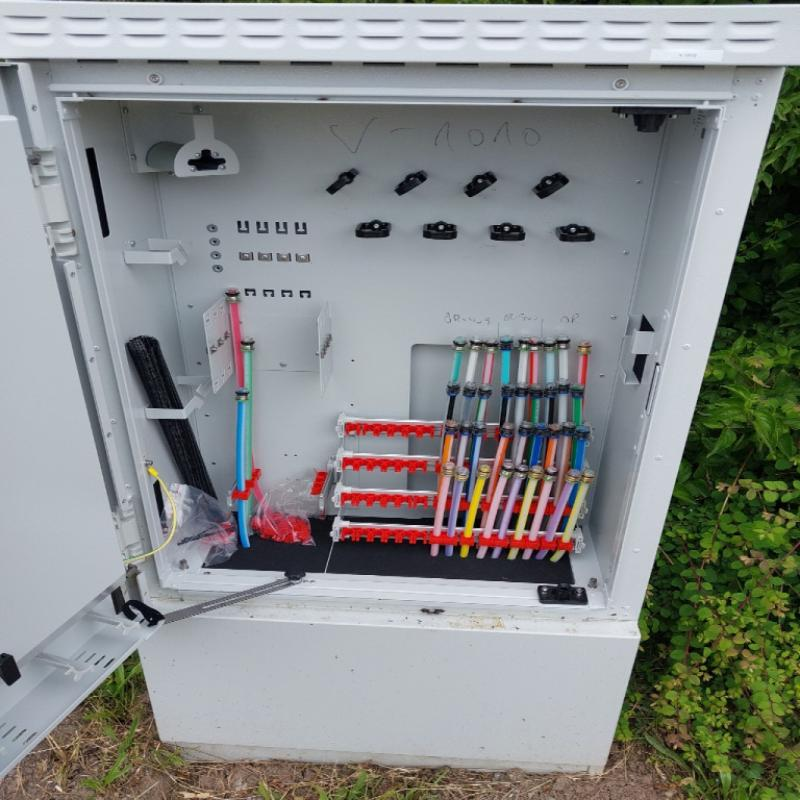NT-Gehause: (0, 0, 792, 776)
